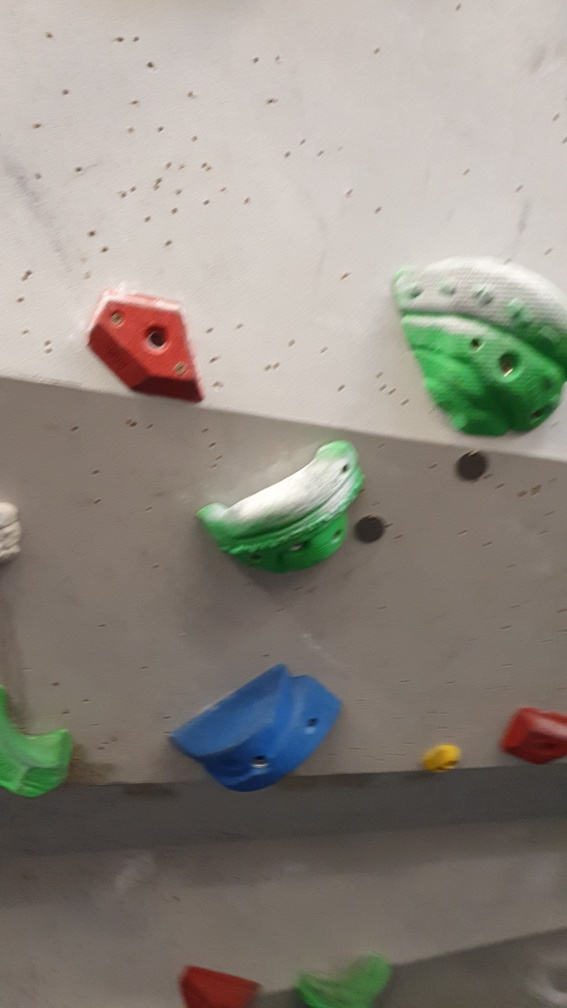Crimp: (80, 281, 208, 406), (490, 697, 567, 765)
Hand Start: (349, 507, 390, 549), (451, 444, 491, 485)
Jug: (391, 254, 567, 442), (193, 436, 370, 575), (1, 681, 80, 806)
Pinch: (162, 661, 344, 795)
